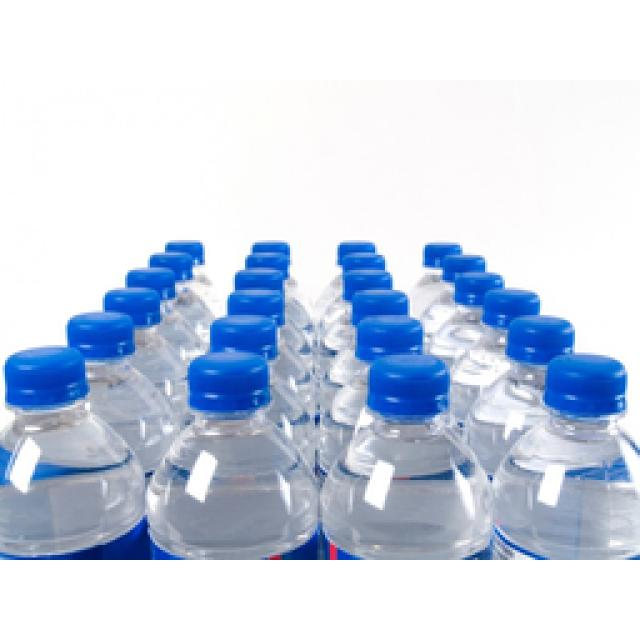plastic_water_bottles: (148, 342, 307, 558), (337, 353, 488, 557), (3, 337, 130, 550), (505, 344, 637, 544)
